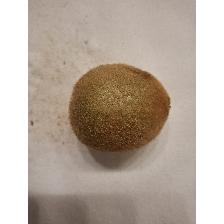Kiwi: (66, 61, 174, 153)
